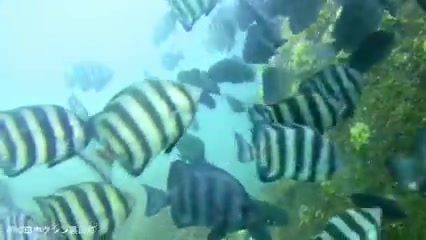ishidai: (80, 77, 202, 179), (143, 164, 260, 229), (228, 124, 352, 183), (1, 96, 98, 164), (41, 175, 137, 240), (261, 65, 361, 127), (324, 207, 385, 240)
